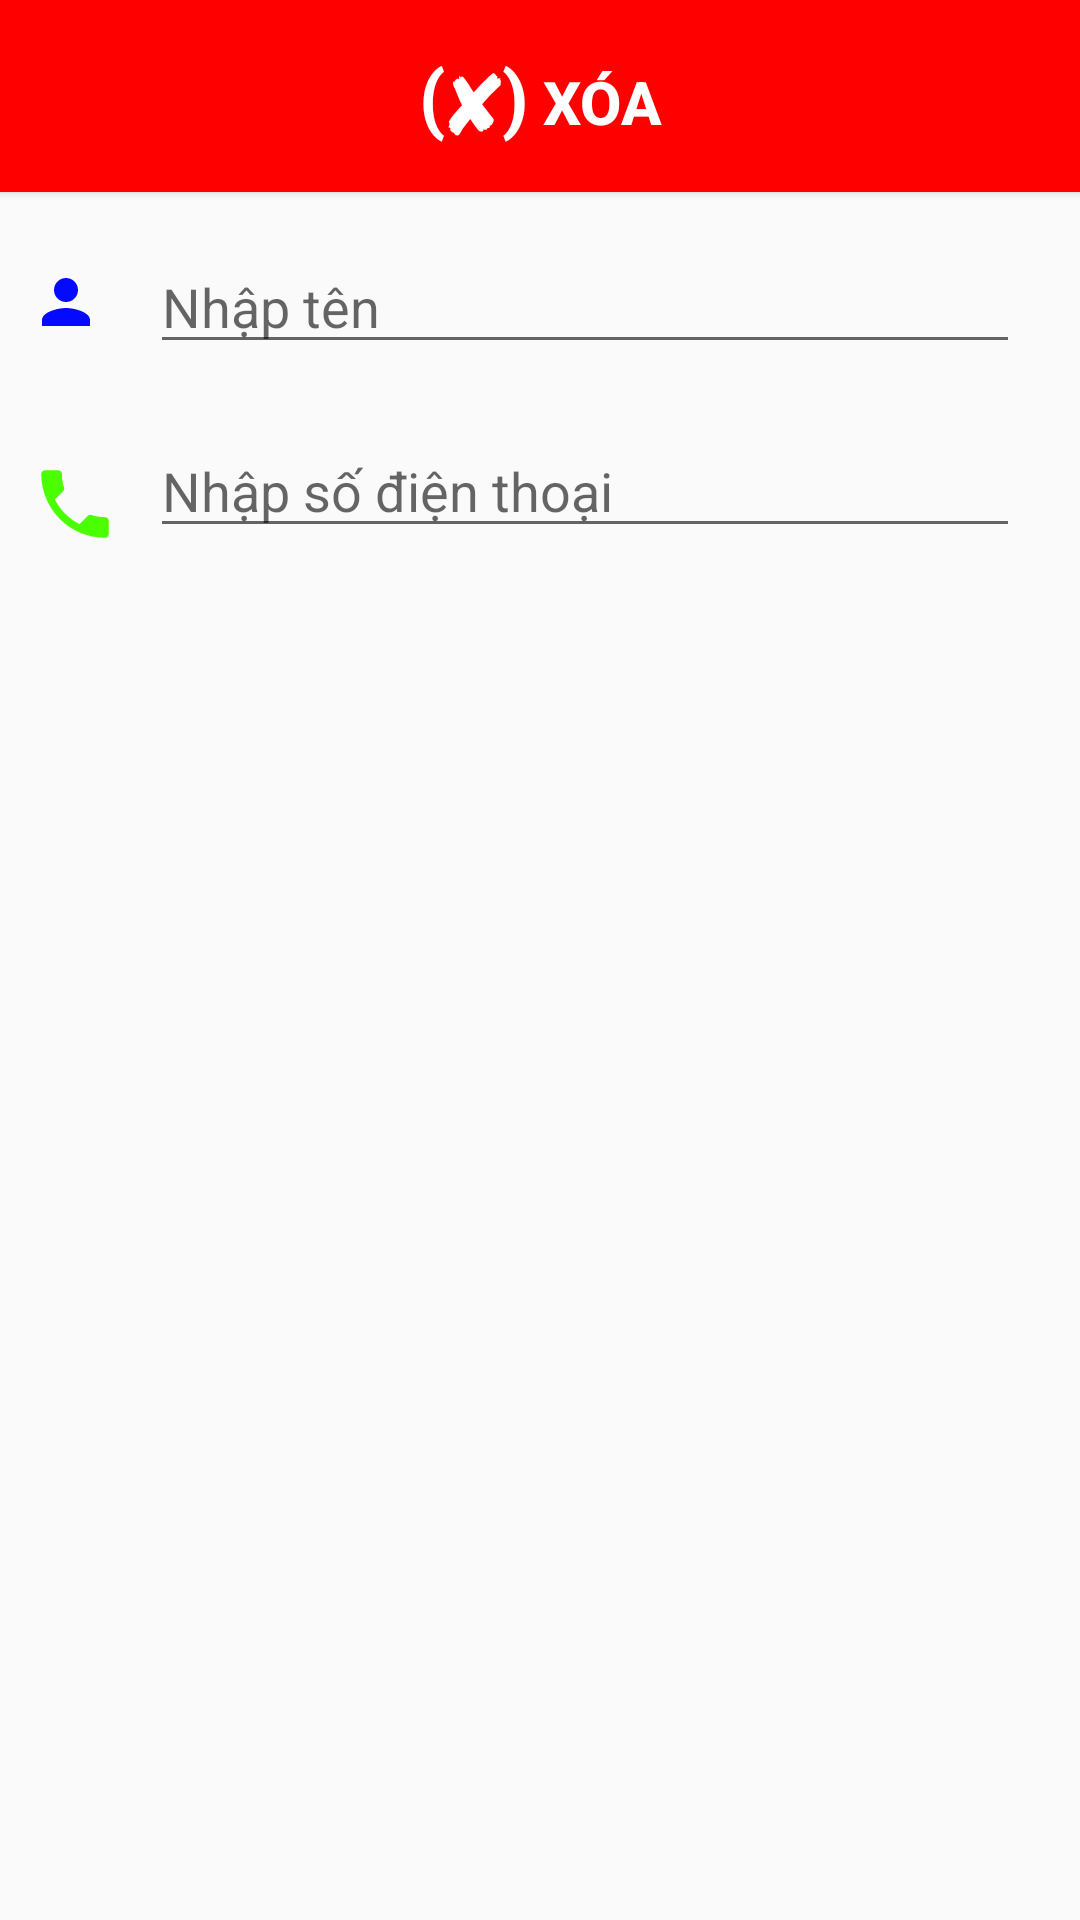

Named icons in this screenshot (1080px×1920px) and their centers, (x=x, y=y):
call: (x=75, y=504)
person: (x=66, y=302)
